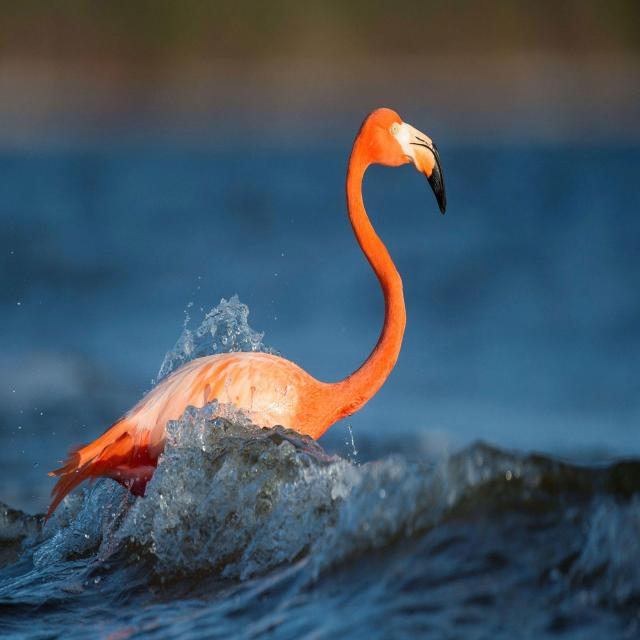flamingo: (46, 108, 446, 520)
